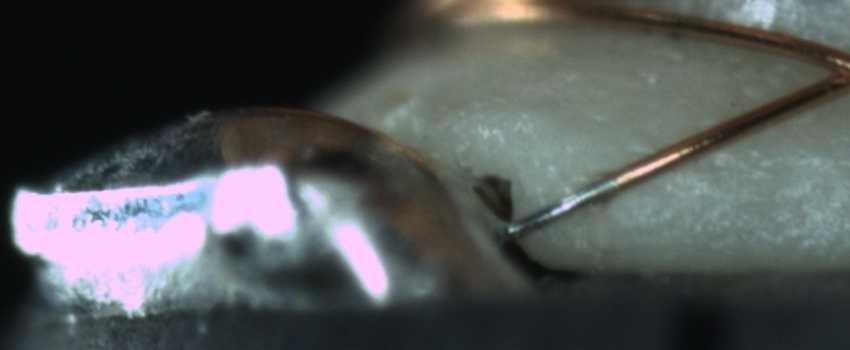CL: (804, 41, 850, 102)
DL: (680, 137, 849, 196)
TS: (497, 176, 614, 239)
